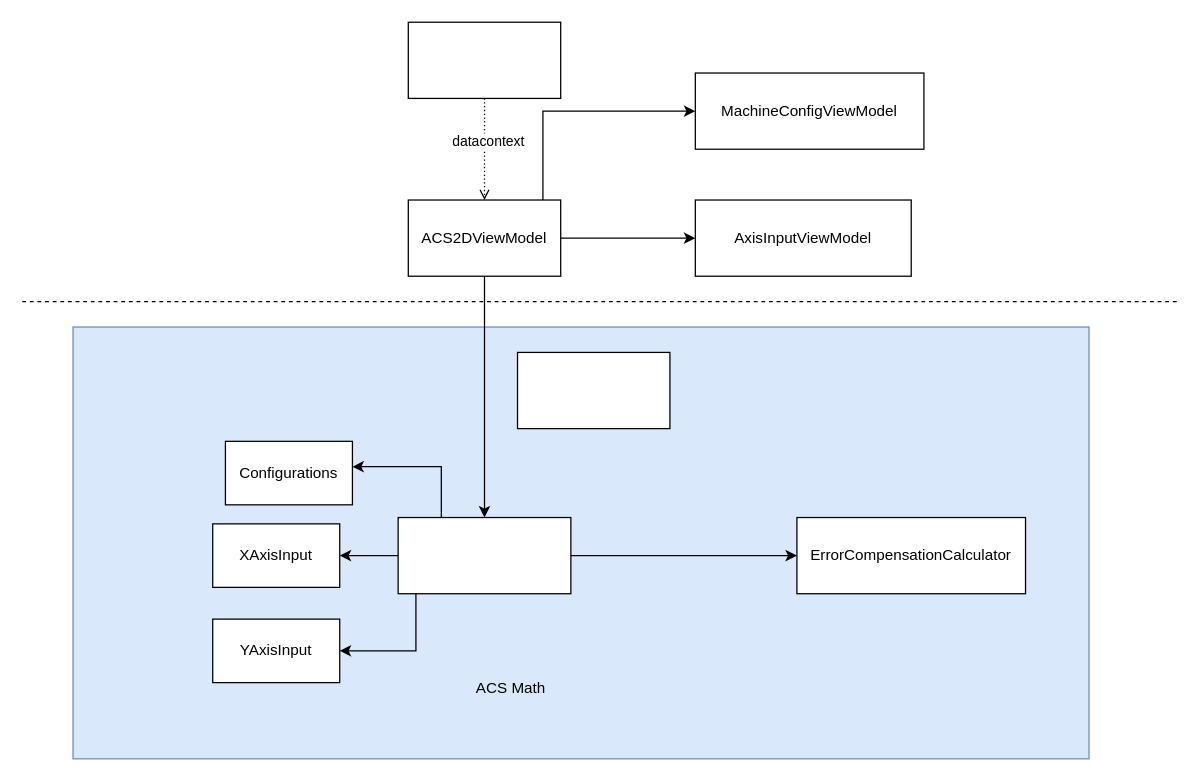
Image size: 1201x781. Some labels were removed from this diagram. Here are the shapes that lost their labels. From the top down, the centre of each, then its label:
the point at 484,59: ACS2DView
the point at 593,390: ACS2DOuputModel
the point at 484,555: ACSErrorMapGenartor
